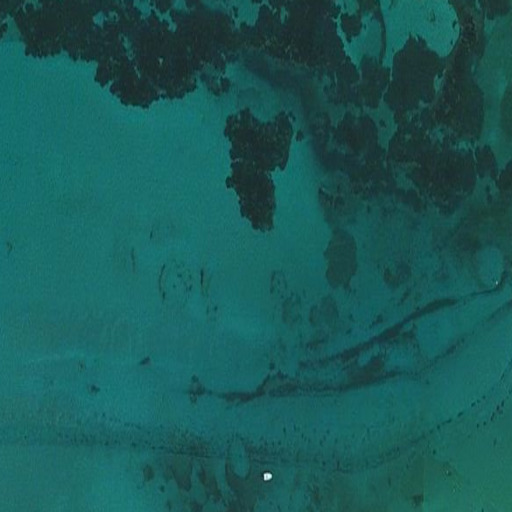ship: (260, 469, 274, 483)
